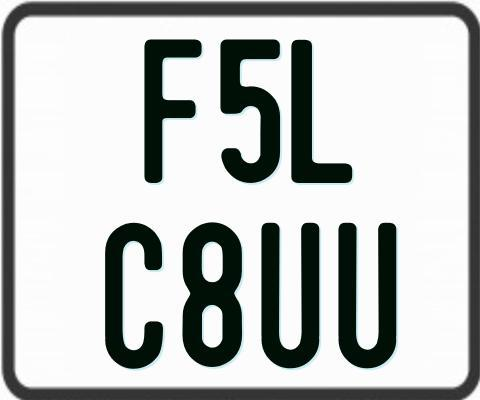5: (220, 40, 284, 184)
8: (182, 222, 248, 373)
C: (102, 221, 161, 368)
F: (142, 37, 202, 182)
L: (288, 38, 350, 186)
U: (261, 220, 324, 366), (335, 223, 393, 368)
